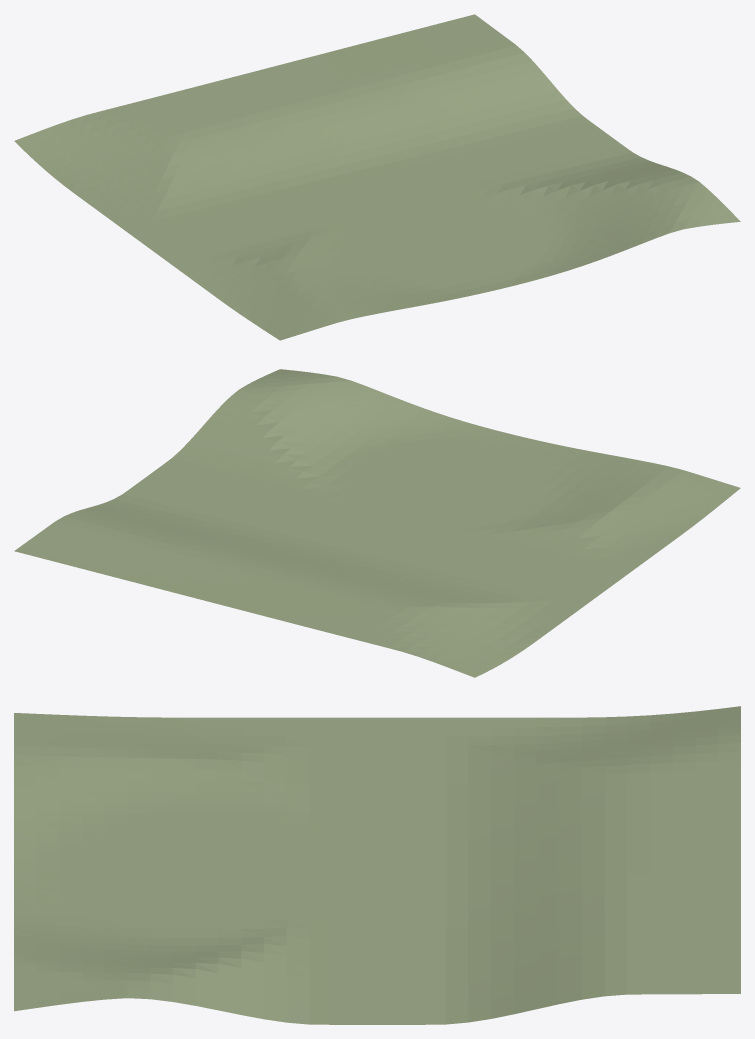
File: gardens-5-1.glb
3 views of the same model, one above another, from view 1: azimuth 30°, elevation 25°; view 2: azimuth 150°, elevation 25°; view 3: azimuth 270°, elevation 25° (orthographic). The views are drawn at different scales.
Parts seen in each view (by area): view 1: gardens-5-1; view 2: gardens-5-1; view 3: gardens-5-1.
Boxes of the visible parts, x1,y1,x2,y2 form: gardens-5-1: [14, 14, 740, 340]; gardens-5-1: [14, 369, 740, 677]; gardens-5-1: [14, 706, 740, 1024].
Size of the model in its own units: 256 by 12 by 256.
